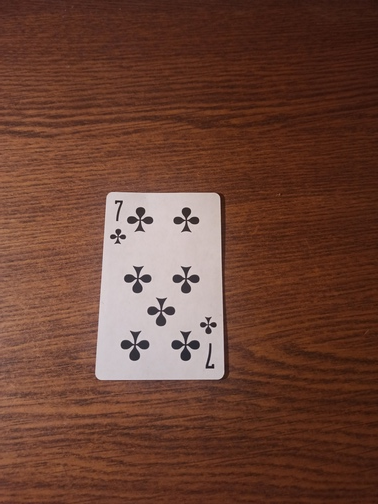sevenclubs: (93, 187, 228, 383)
